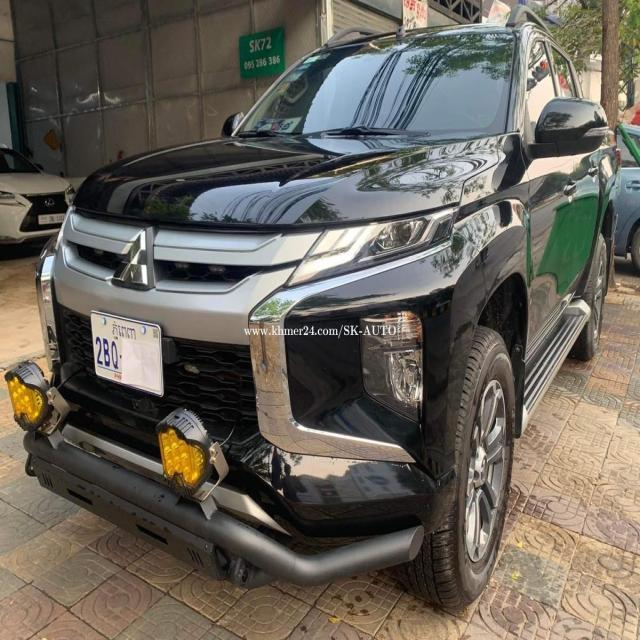Phnom_Penh: (112, 320, 136, 342)
